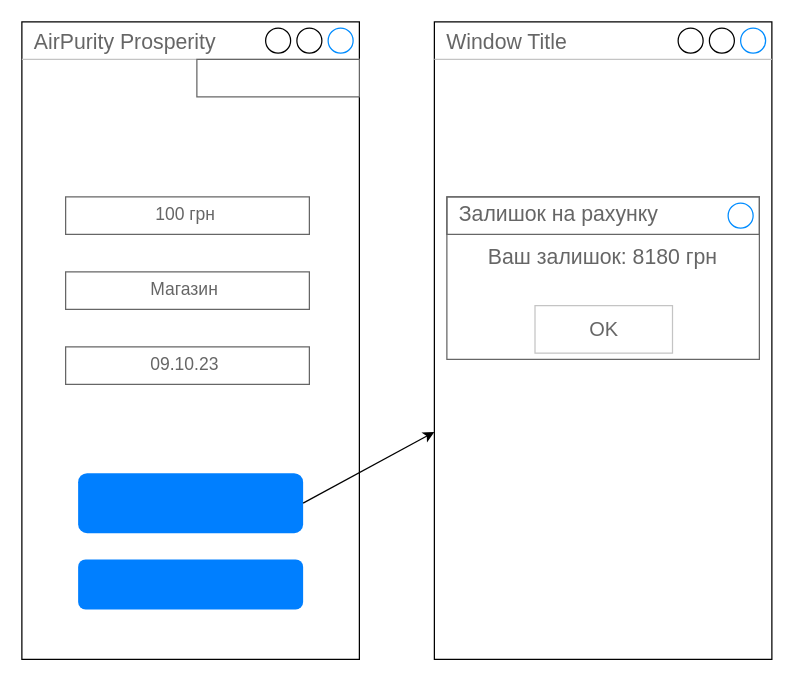
Some shapes in this 794 by 681 pixel diagram are drawn without their labels. The centre of each missing label's shape, as x and y in pixels:
Додати витрату: point (190, 502)
Додати прибуток: point (190, 584)
Залишок: 8280: point (277, 77)
